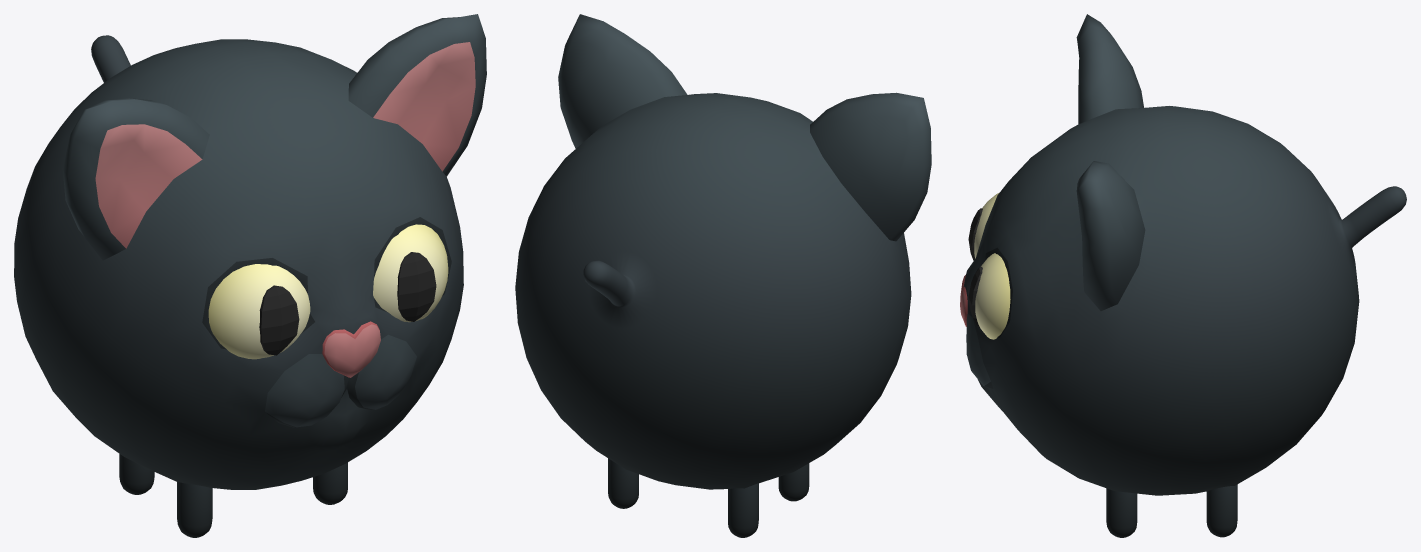
File: Cat.fbx
3 views of the same model, side by side, from view 1: azimuth 30°, elevation 25°; view 2: azimuth 150°, elevation 25°; view 3: azimuth 270°, elevation 25° (orthographic). The views are drawn at different scales.
Parts seen in each view (by area): view 1: CAT_LP; view 2: CAT_LP; view 3: CAT_LP.
Part boxes in pixels (x1,y1,x2,y2): CAT_LP: (14,14,486,537); CAT_LP: (515,14,931,537); CAT_LP: (960,14,1406,537).
Size of the model in its own units: 213 by 231 by 227.
1 material, 1 textured.
